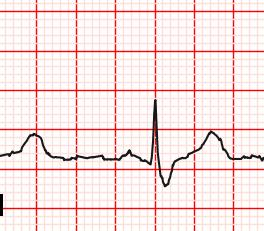ST Depression: (145, 154, 182, 191)
